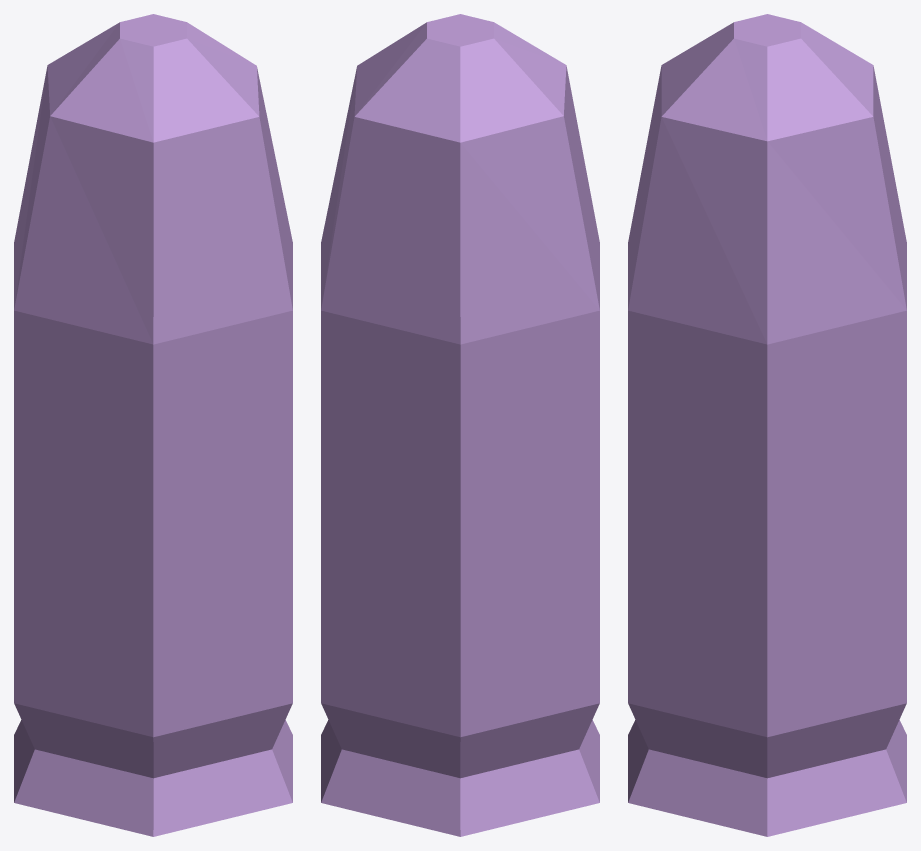
The model's file is SM_PRP_Pistols_Colt_Bullet_01_A.obj.
The picture shows the model from 3 angles, left to right: view 1: azimuth 30°, elevation 25°; view 2: azimuth 150°, elevation 25°; view 3: azimuth 270°, elevation 25°; orthographic projection.
Visible parts, largest first — view 1: SM_PRP_Pistols_Colt_Bullet_01_A; view 2: SM_PRP_Pistols_Colt_Bullet_01_A; view 3: SM_PRP_Pistols_Colt_Bullet_01_A.
Part boxes in pixels (x1,y1,x2,y2): SM_PRP_Pistols_Colt_Bullet_01_A: (14,14,292,836); SM_PRP_Pistols_Colt_Bullet_01_A: (321,14,599,836); SM_PRP_Pistols_Colt_Bullet_01_A: (628,14,906,836).
Size of the model in its own units: 1.19 by 3 by 1.03.
